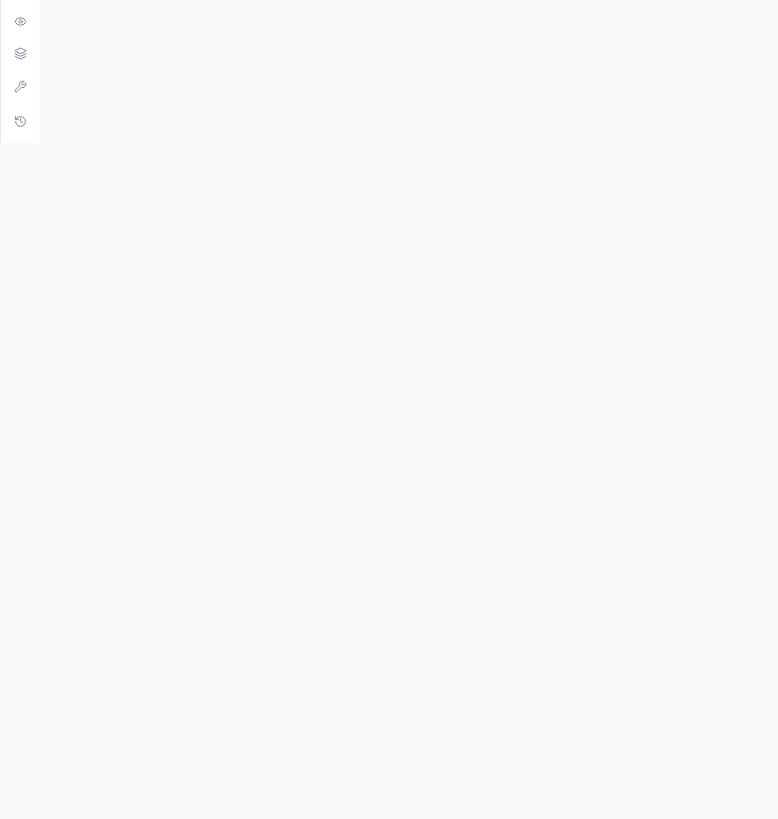
RightRail › opens Inspect panel on click
Click the button with test id "right-rail-inspect" at [20, 21], box [5, 6, 35, 36]
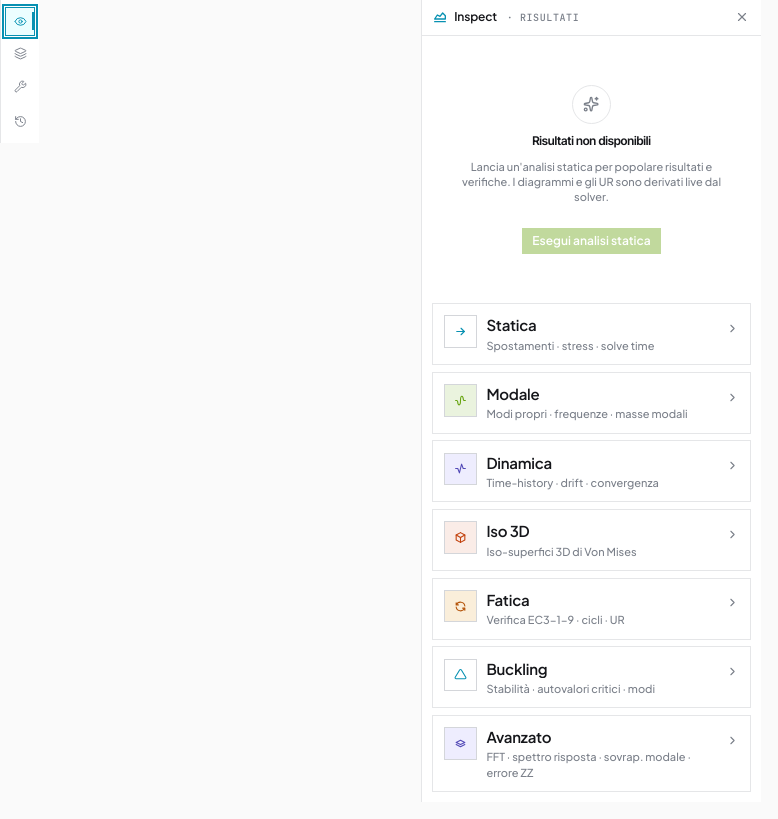
Result: the element with test id "right-panel-inspect" is shown at [421, 0, 761, 600]
